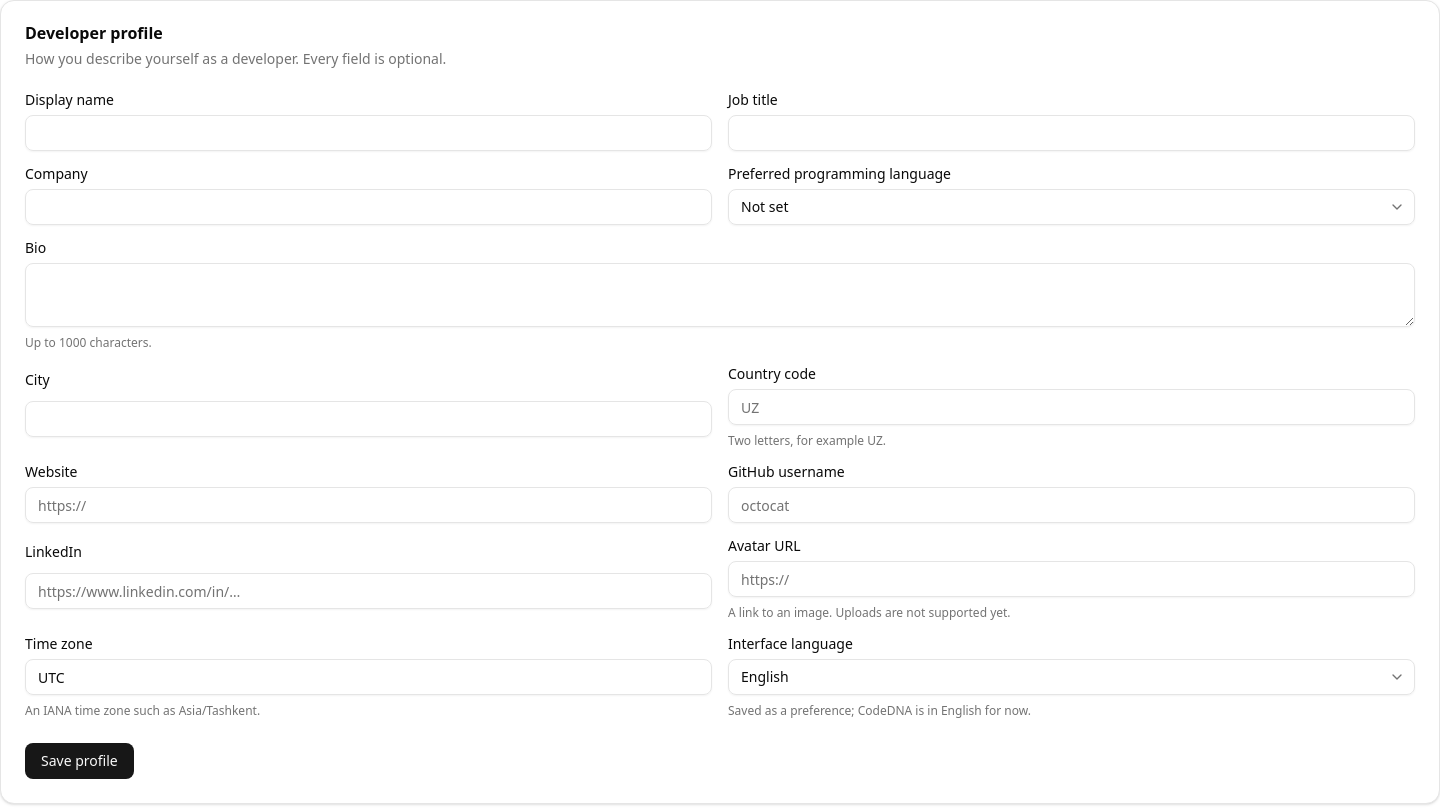
Test: ProfileForm › saves every field, sending empty optional fields as null, and stays on the page
The image size is (1440, 810).
Type " Tashkent " into the field labelled "City". click: (368, 419)
box: [25, 401, 712, 437]
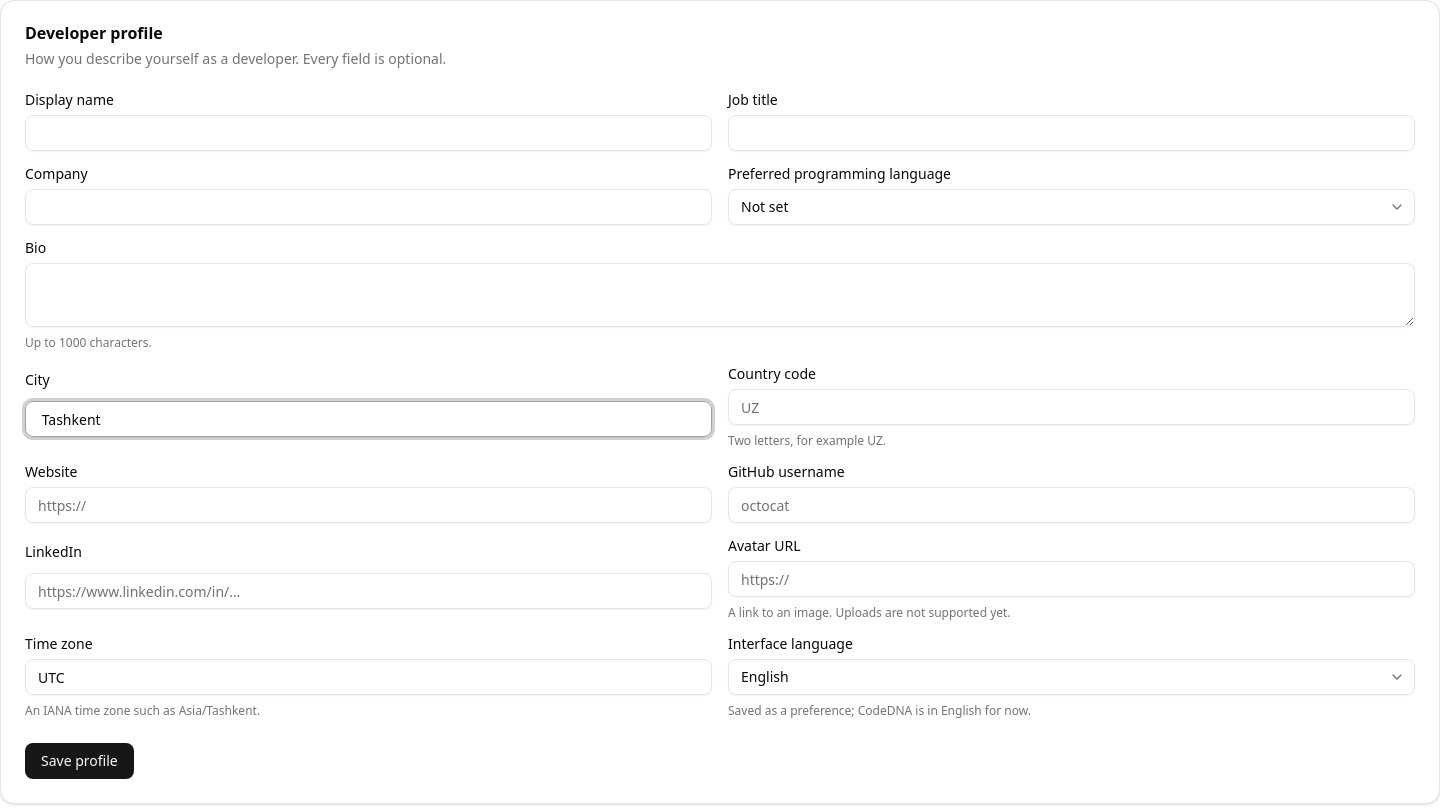
Type "uz" into the field labelled "Country code". click: (1072, 407)
box: [728, 389, 1415, 425]
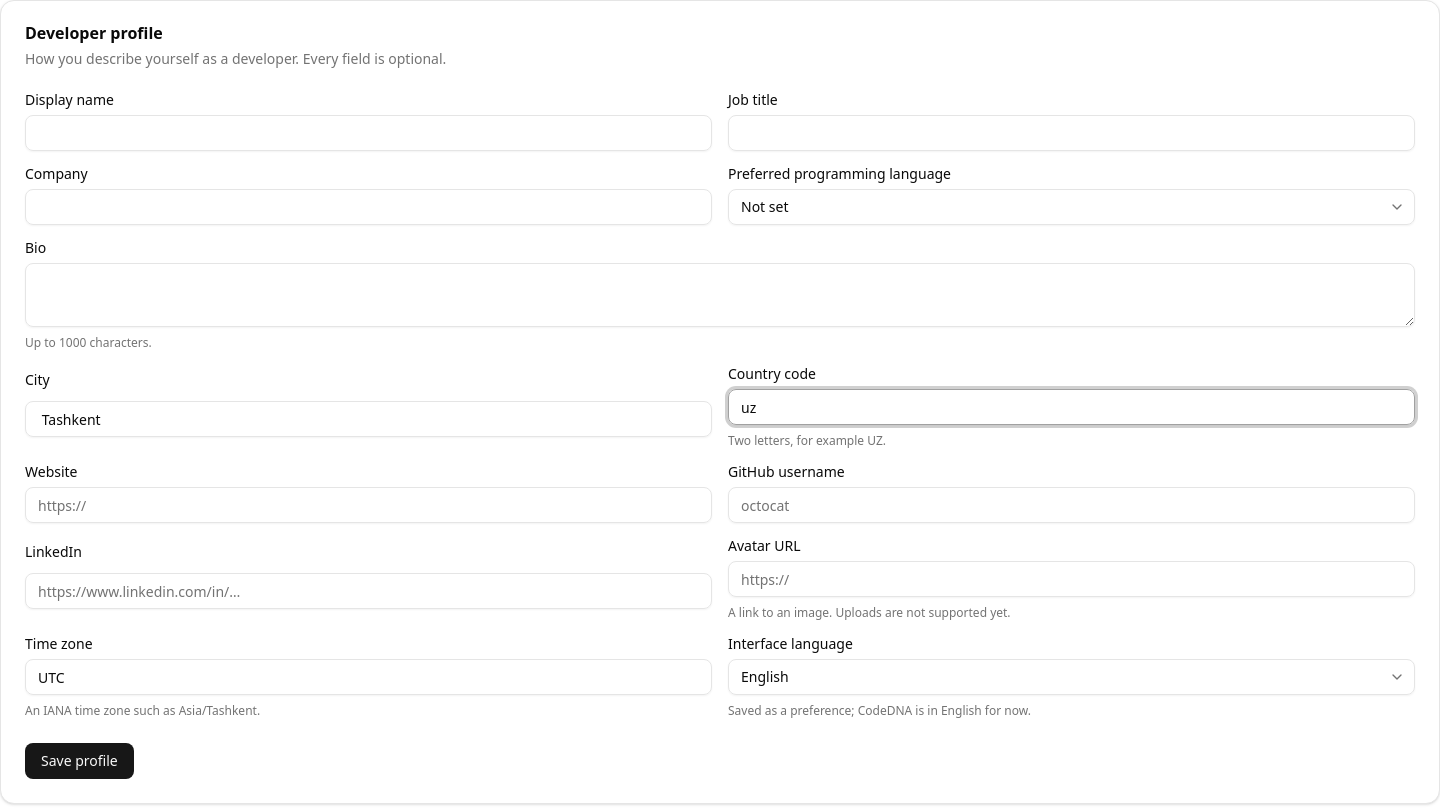
Type "@octocat" into the field labelled "GitHub username". click: (1072, 505)
box: [728, 487, 1415, 523]
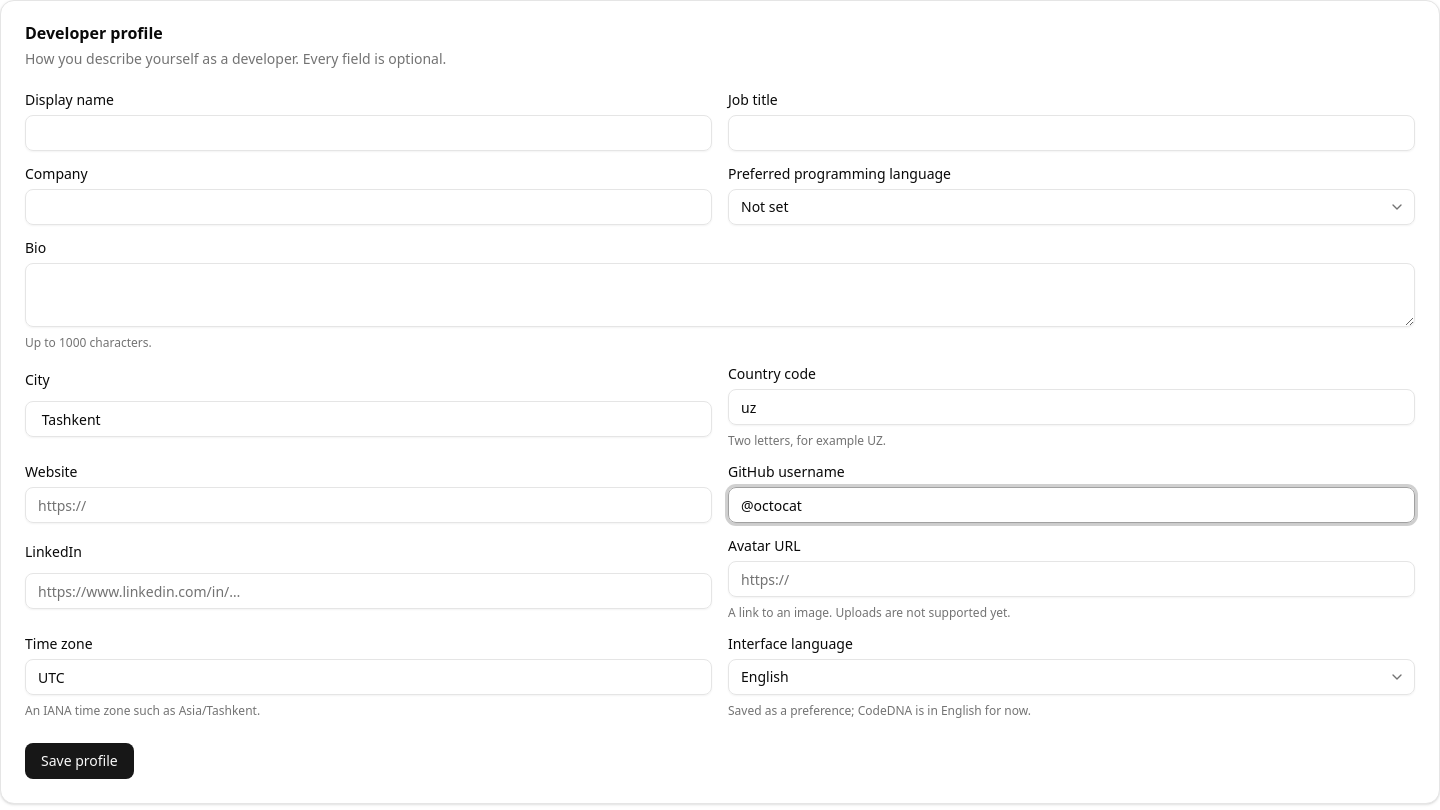
Click the button "Save profile". click: (79, 761)
box: [25, 743, 134, 779]
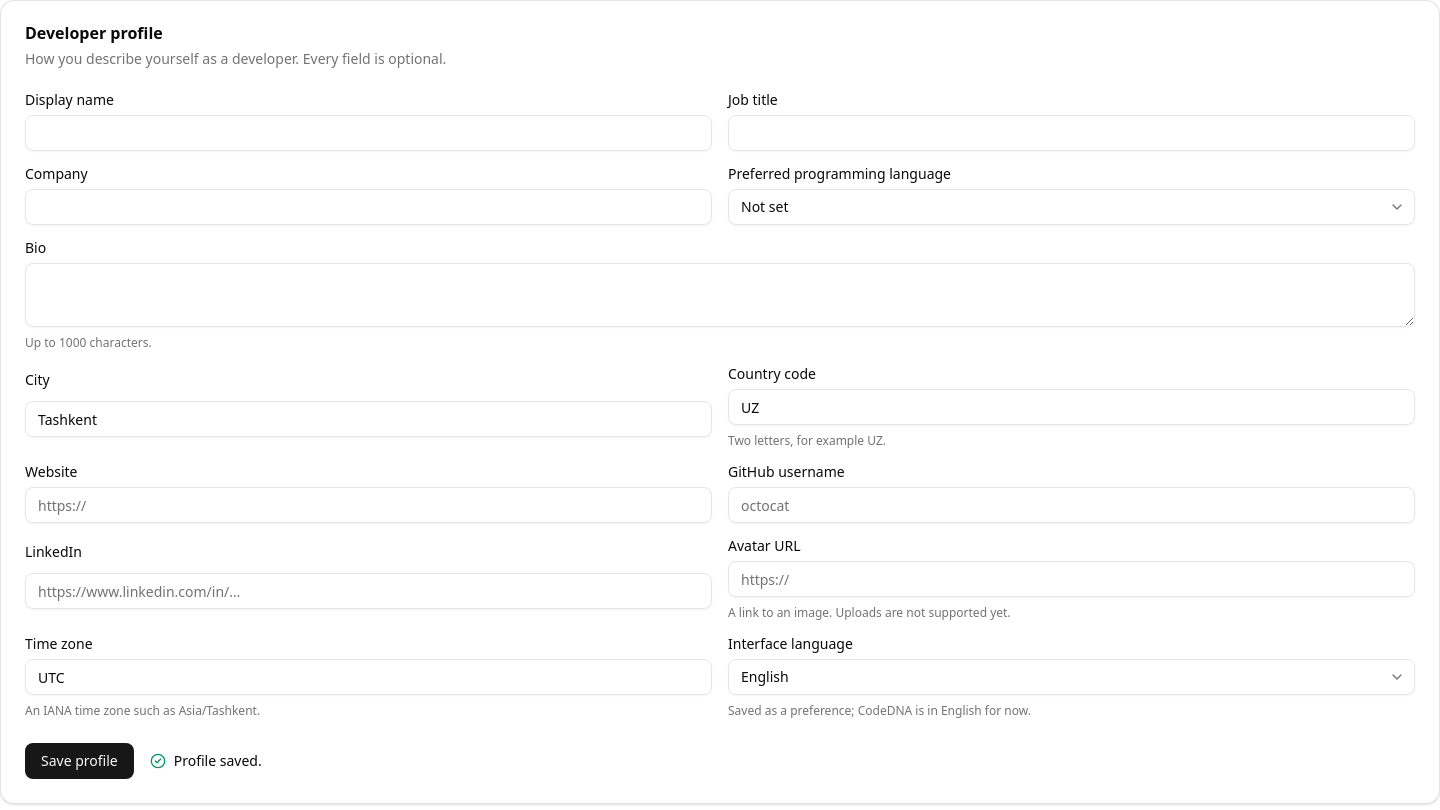
Expected: the text "Profile saved." is shown, [150, 751, 262, 771]
